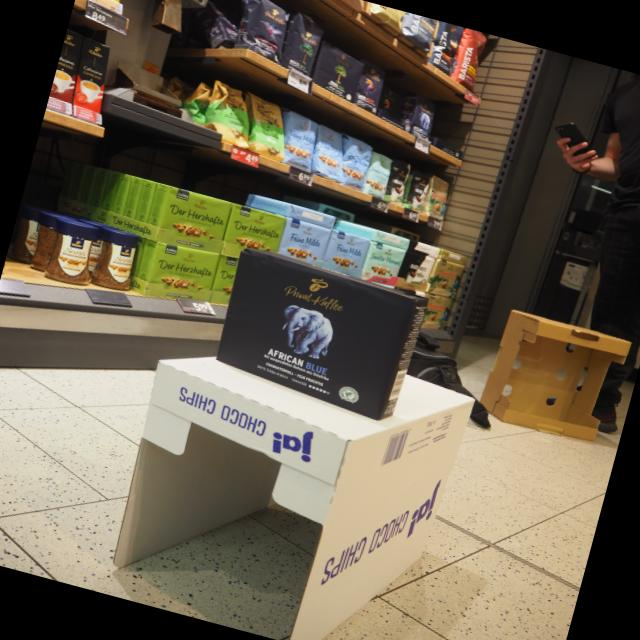AB Gemahlen: (213, 244, 420, 424)
